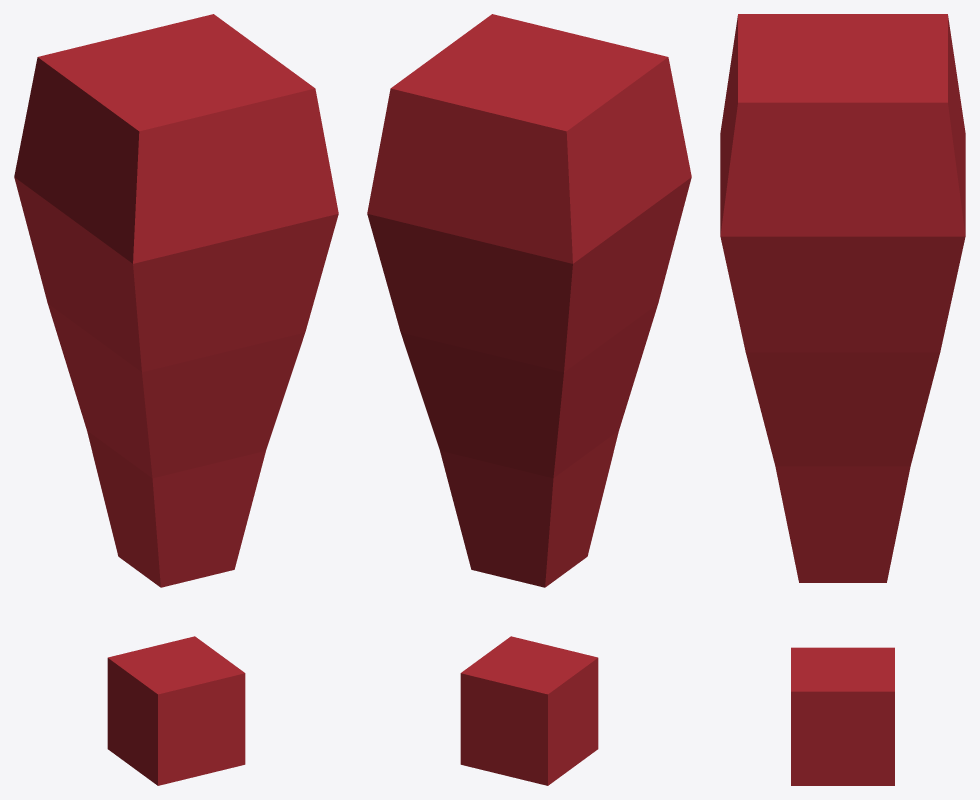
The model's file is exclam_mark.fbx.
3 renders of one model, left to right at view 1: azimuth 30°, elevation 25°; view 2: azimuth 150°, elevation 25°; view 3: azimuth 270°, elevation 25°, orthographic. The views are drawn at different scales.
Parts seen in each view (by area): view 1: Cube; view 2: Cube; view 3: Cube.
Boxes of the visible parts, left/top/right/bottom form: Cube: left=14, top=14, right=338, bottom=785; Cube: left=367, top=14, right=691, bottom=785; Cube: left=720, top=14, right=965, bottom=785.
Bounding box in the file's own units: 176 × 558 × 176.
